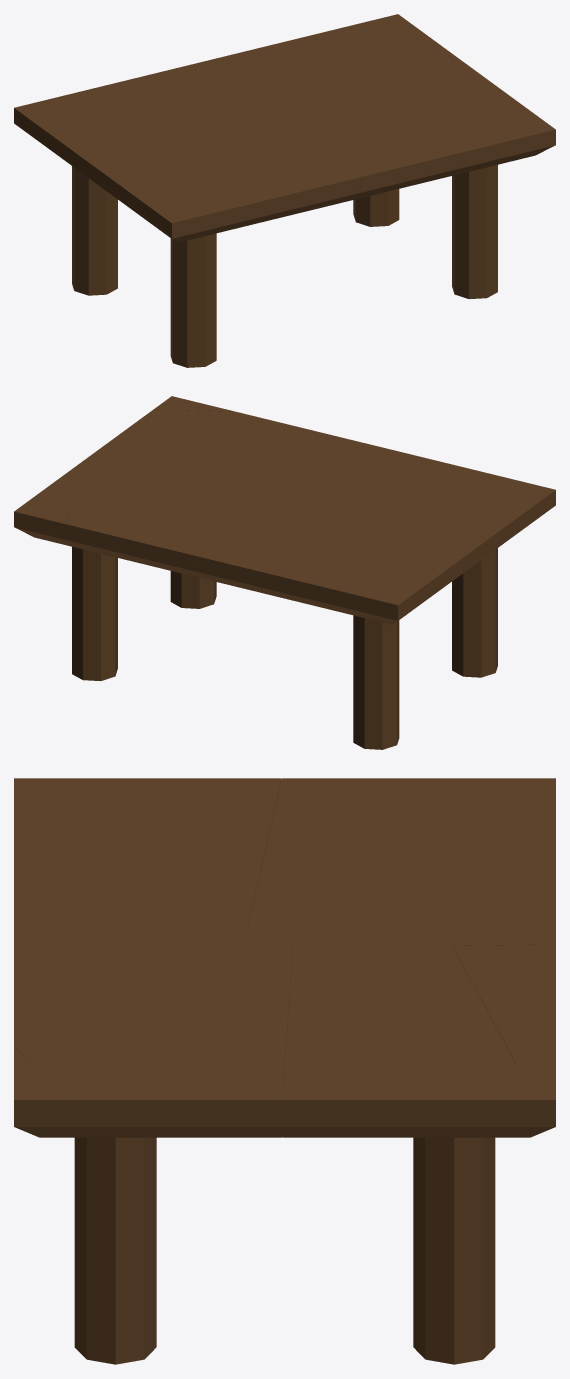
Rendered from table4-parts.fbx.
The picture shows the model from 3 angles, top to bottom: view 1: azimuth 30°, elevation 25°; view 2: azimuth 150°, elevation 25°; view 3: azimuth 270°, elevation 25°; orthographic projection. The views are drawn at different scales.
Parts seen in each view (by area): view 1: table4_cell.001, table4_cell.005, table4_cell, table4_cell.003, leg1, leg3, leg2, table4_cell.006, table4_cell.004, leg4, table4_cell.007; view 2: table4_cell, table4_cell.001, table4_cell.005, table4_cell.003, table4_cell.006, leg2, leg4, leg1, leg3, table4_cell.007, table4_cell.004; view 3: table4_cell.001, table4_cell, table4_cell.003, table4_cell.005, leg3, leg4, table4_cell.006, table4_cell.007, table4_cell.004.
Part boxes in pixels (x1,y1,x2,y2): table4_cell.001: (282, 72, 540, 200); table4_cell.005: (94, 130, 360, 239); table4_cell: (14, 59, 284, 181); table4_cell.003: (244, 25, 477, 116); leg1: (170, 233, 216, 367); leg3: (452, 165, 497, 299); leg2: (72, 166, 117, 295); table4_cell.006: (213, 27, 366, 80); table4_cell.004: (492, 116, 555, 155); leg4: (353, 189, 399, 226); table4_cell.007: (346, 14, 412, 32); table4_cell: (199, 496, 478, 624); table4_cell.001: (94, 409, 366, 501); table4_cell.005: (309, 443, 555, 556); table4_cell.003: (29, 453, 279, 534); table4_cell.006: (29, 513, 228, 579); leg2: (353, 615, 399, 749); leg4: (72, 547, 117, 681); leg1: (452, 548, 497, 677); leg3: (170, 571, 216, 608); table4_cell.007: (14, 500, 67, 534); table4_cell.004: (154, 396, 234, 411); table4_cell.001: (14, 928, 293, 1137); table4_cell: (248, 778, 555, 945); table4_cell.003: (282, 941, 521, 1137); table4_cell.005: (14, 778, 281, 936); leg3: (74, 1137, 156, 1364); leg4: (413, 1137, 495, 1364); table4_cell.006: (452, 944, 555, 1137); table4_cell.007: (504, 1056, 555, 1134); table4_cell.004: (14, 1047, 74, 1134).
Bounding box in the file's own units: 8.5 × 3.57 × 6.05.
